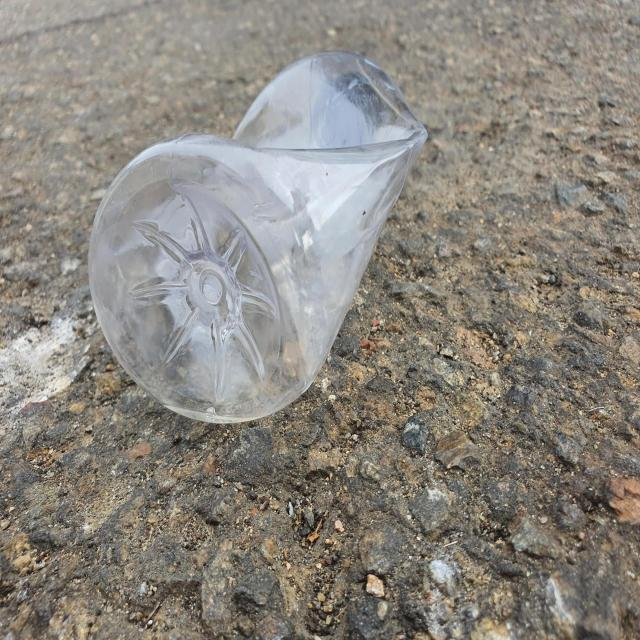plastic: (88, 50, 427, 423)
